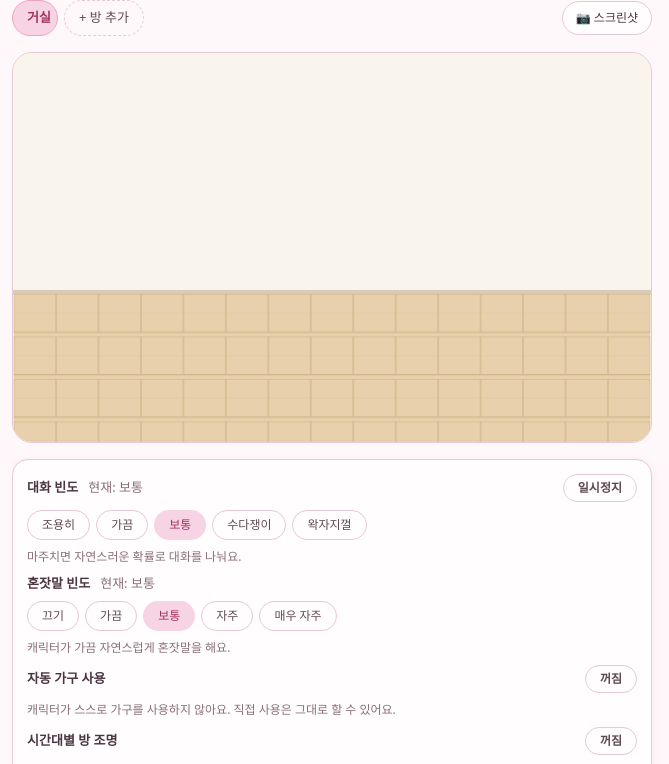
LiveScreen › shows the separate 혼잣말 빈도 selector with all 5 modes, defaulting to 보통, and it does not touch the 대화 빈도 setting
The image size is (669, 764).
Expected: the 2nd button "가끔" is shown, left=85, top=601, right=137, bottom=631
Expected: the 2nd button "보통" is shown, left=143, top=601, right=195, bottom=631
Click the button "끄기": point(53, 616) left=27, top=601, right=79, bottom=631
(page scrolled)
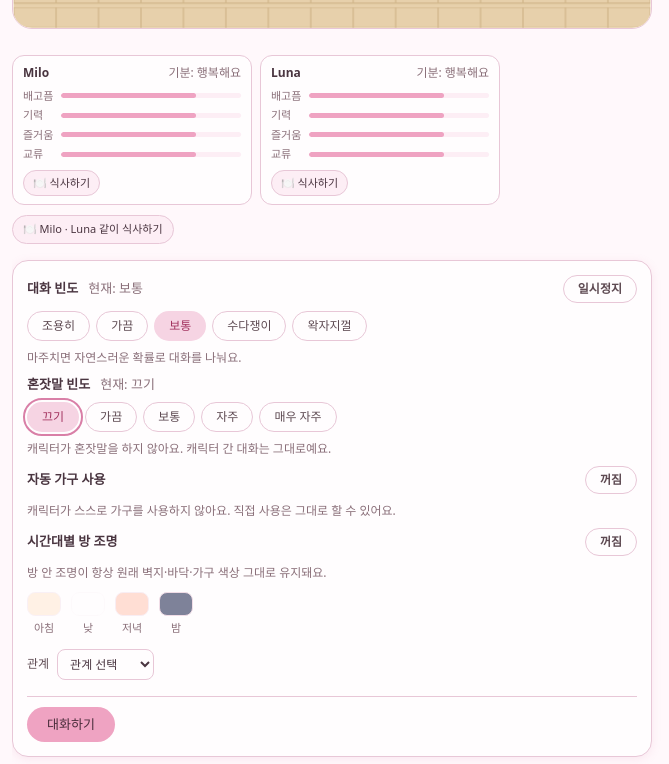
Now the text "현재: 끄기" is shown, box left=100, top=375, right=155, bottom=394
